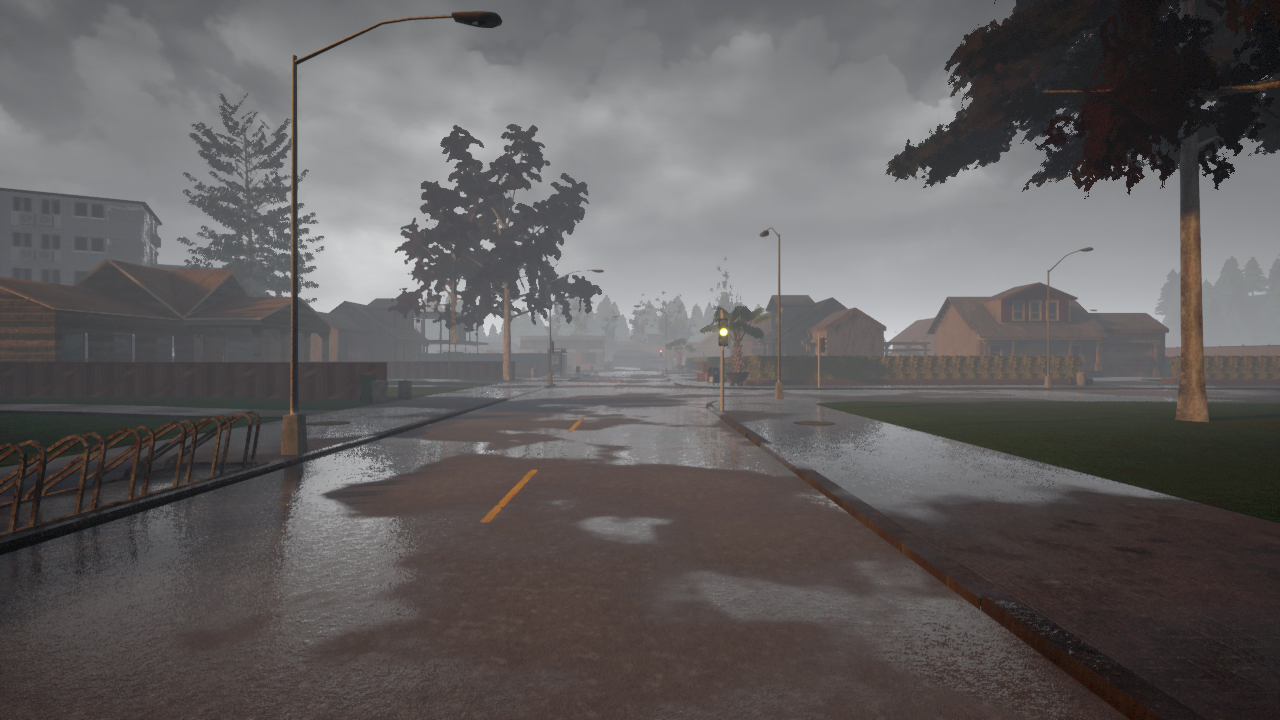yellow: (717, 318, 729, 346)
